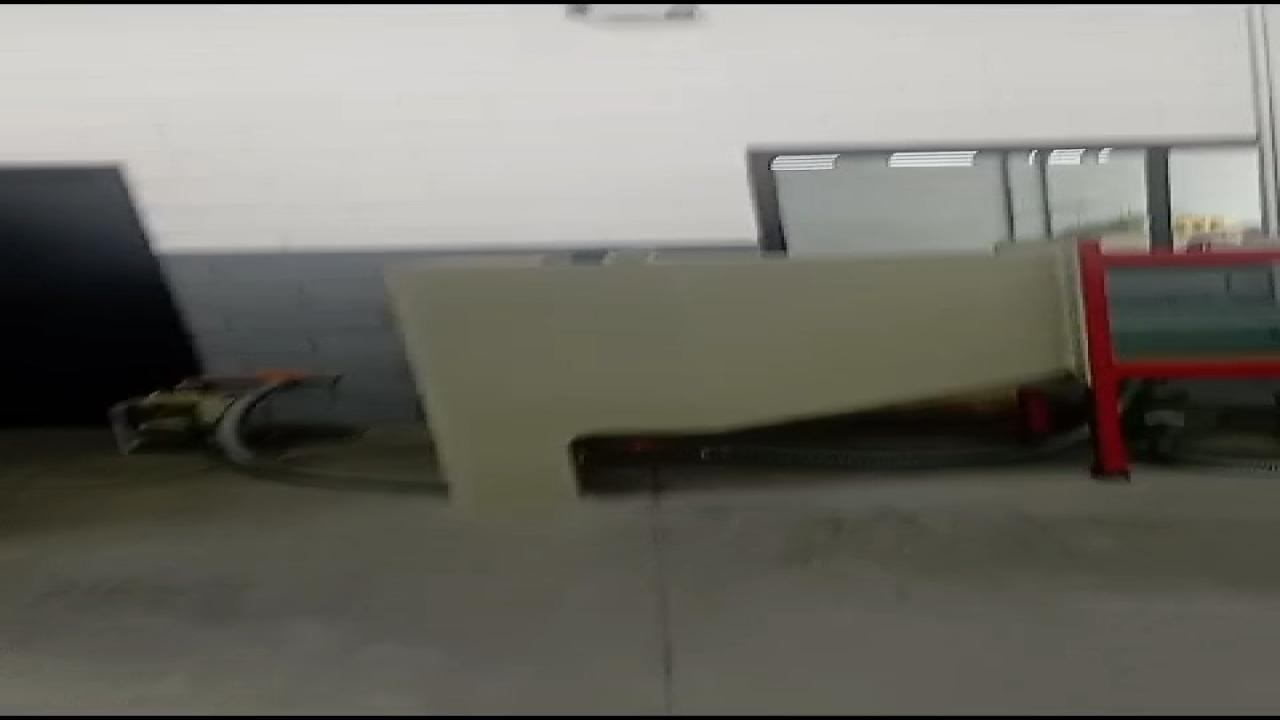Cube: (566, 250, 610, 266)
